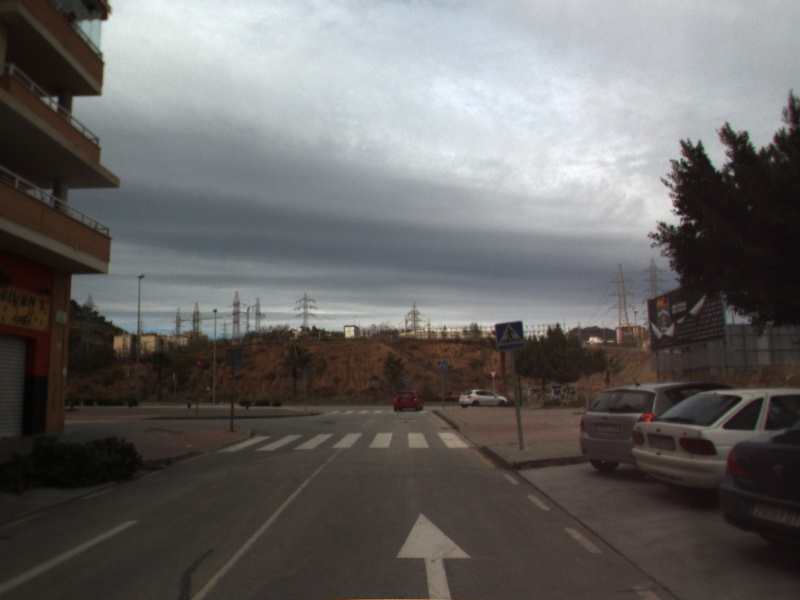STRAIGHT: (393, 509, 475, 600)
